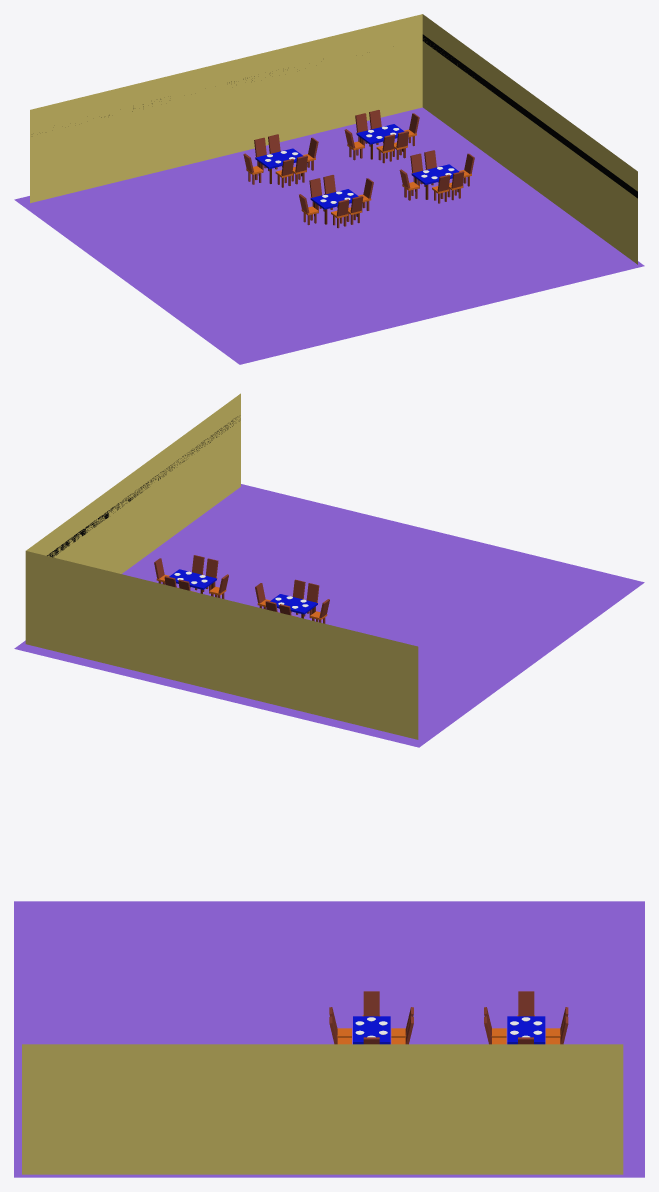
The picture shows the model from 3 angles, top to bottom: view 1: azimuth 30°, elevation 25°; view 2: azimuth 150°, elevation 25°; view 3: azimuth 270°, elevation 25°; orthographic projection. The views are drawn at different scales.
Visible parts, largest first — view 1: Plane, Plane002, Plane001; view 2: Plane, Plane002, Plane001; view 3: Plane, Plane002, Cube001_3, Cube001.
Part boxes in pixels (left/top/right/bottom): Plane: left=14, top=107, right=644, bottom=364; Plane002: left=30, top=14, right=637, bottom=264; Plane001: left=101, top=34, right=637, bottom=198; Plane: left=14, top=484, right=644, bottom=747; Plane002: left=25, top=393, right=418, bottom=739; Plane001: left=47, top=416, right=239, bottom=557; Plane: left=14, top=901, right=644, bottom=1177; Plane002: left=22, top=1044, right=623, bottom=1174; Cube001_3: left=507, top=1016, right=545, bottom=1044; Cube001: left=353, top=1016, right=390, bottom=1044.
Bounding box in the file's own units: 118 × 26.1 × 114.
